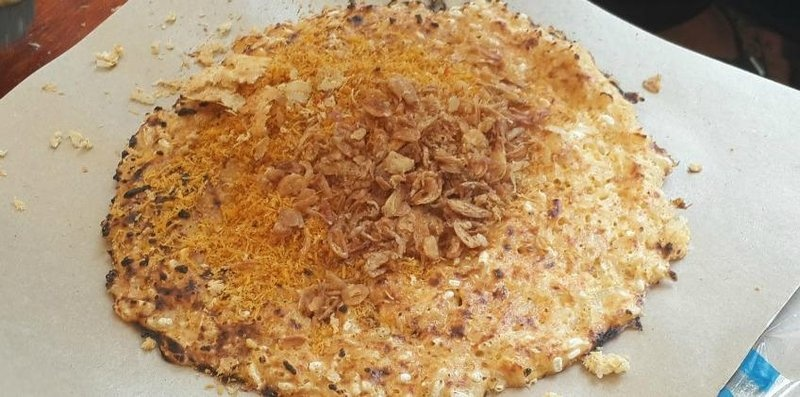kerak_telor: (102, 1, 690, 397)
